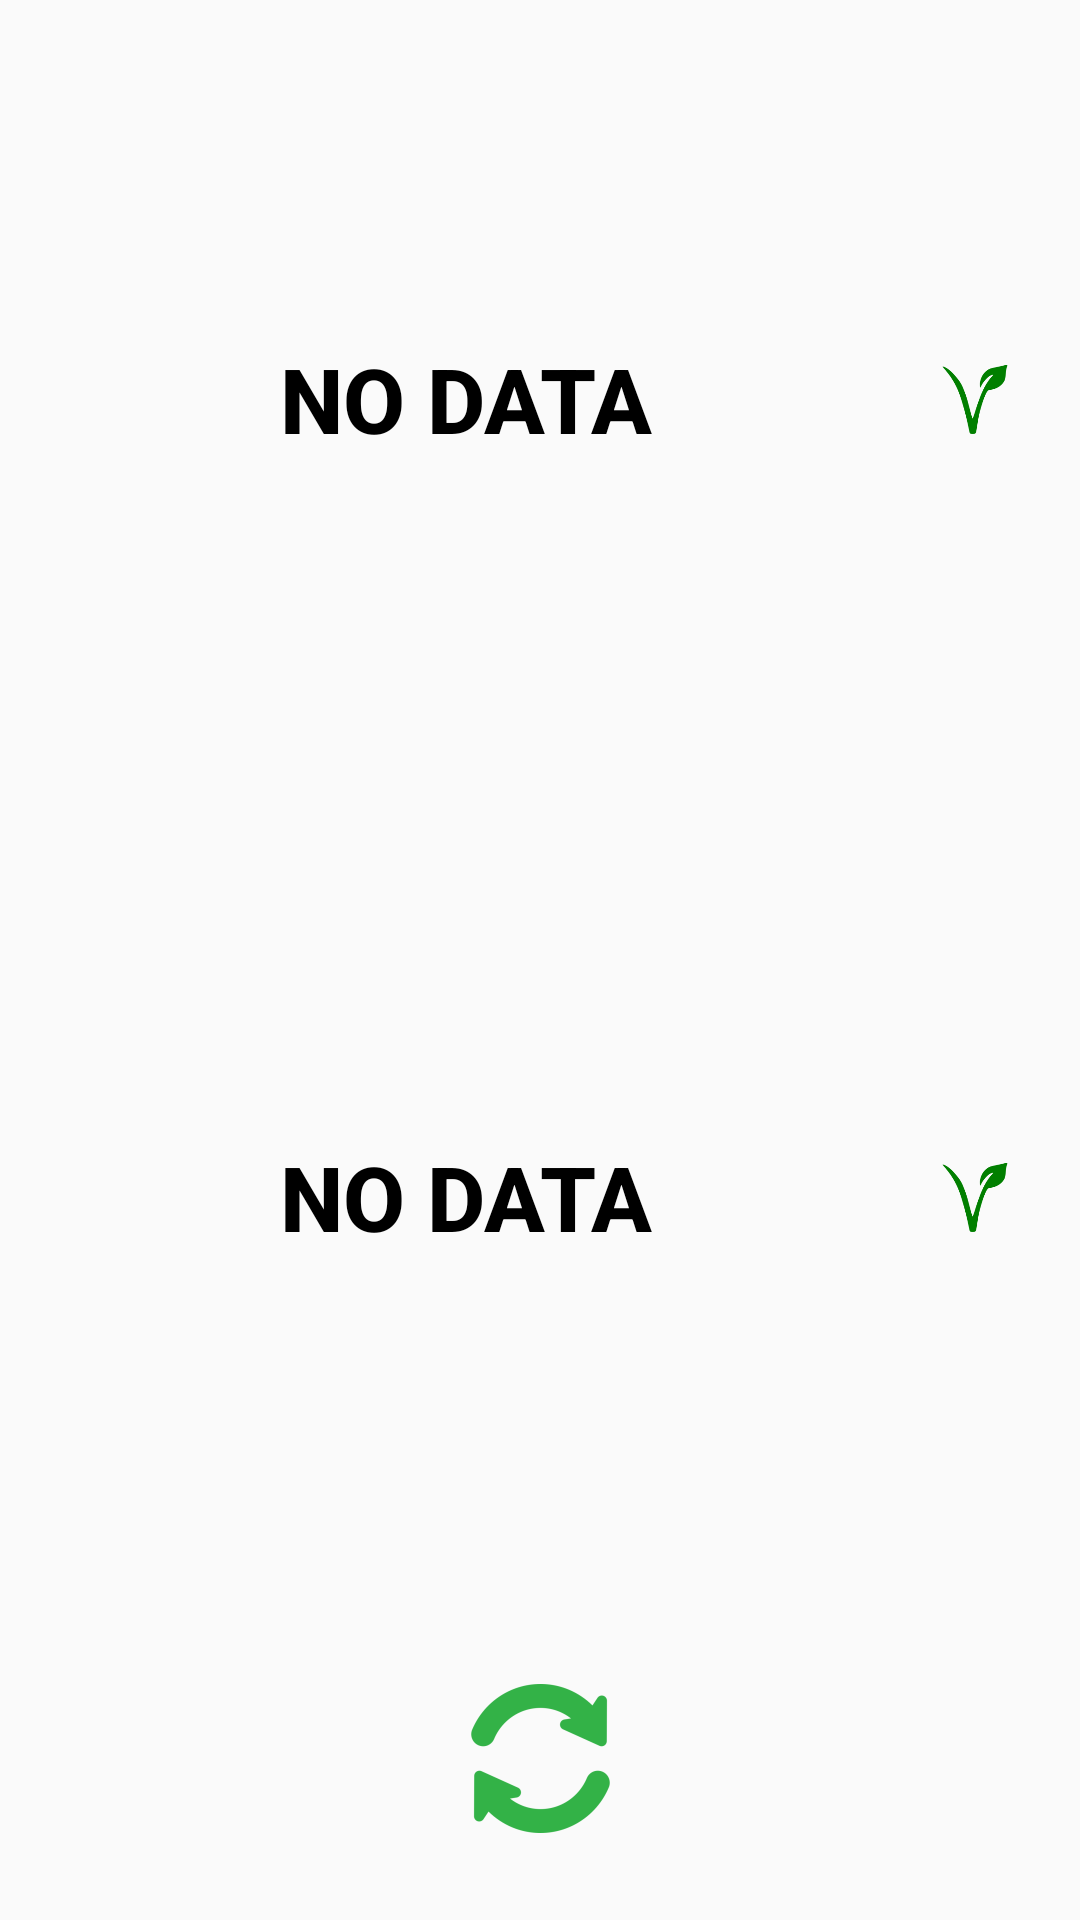

Named icons in this screenshot (1080px×1920px) and their bounding boxes, [x1, y1, x2, y2]:
refresh: [471, 1684, 610, 1833]
